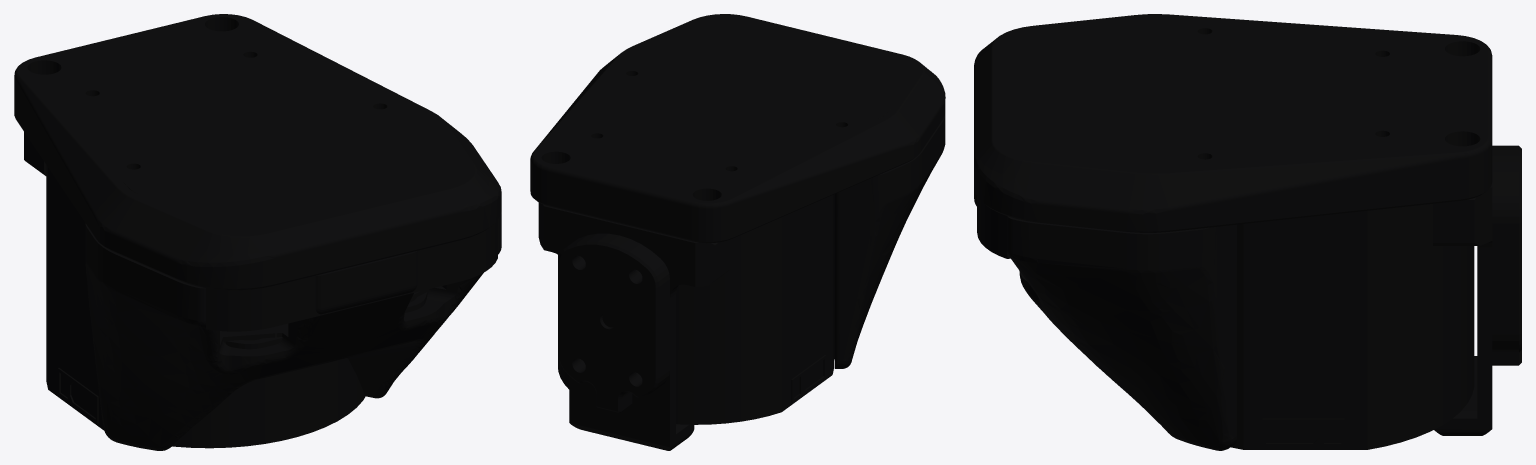
The model's file is base_link__black.glb.
3 views of the same model, side by side, from view 1: azimuth 30°, elevation 25°; view 2: azimuth 150°, elevation 25°; view 3: azimuth 270°, elevation 25° (orthographic). The views are drawn at different scales.
Parts seen in each view (by area): view 1: base_link.STL; view 2: base_link.STL; view 3: base_link.STL.
Boxes of the visible parts, box(x1,y1,x2,y2) form: base_link.STL: box(14, 14, 501, 450); base_link.STL: box(530, 14, 945, 450); base_link.STL: box(974, 14, 1521, 450).
Bounding box in the file's own units: 0.0738 × 0.0589 × 0.0925.
1 material, 1 textured.
